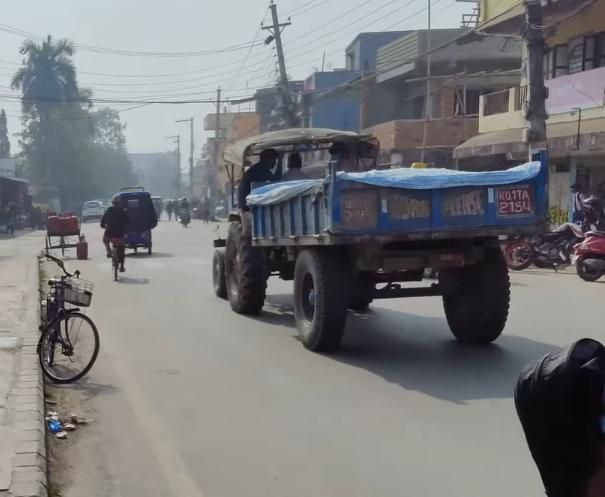tractor: (203, 121, 544, 361)
